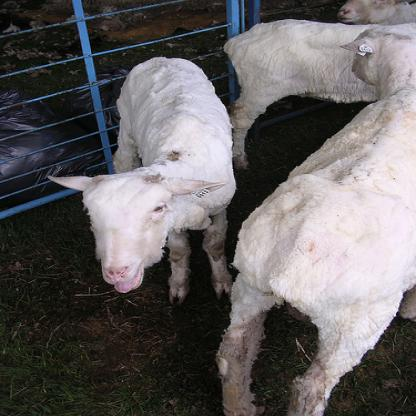sheep: (214, 25, 415, 413), (47, 52, 235, 303), (219, 12, 386, 166), (337, 0, 415, 26)
